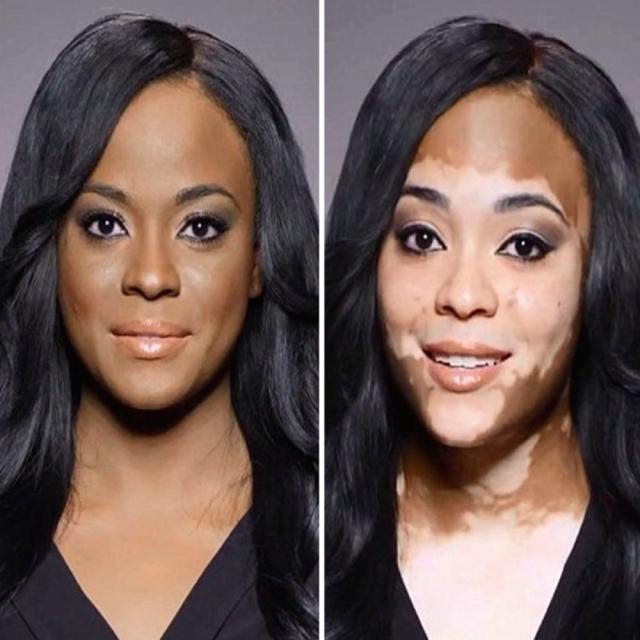vitiligo: (378, 103, 591, 585)
